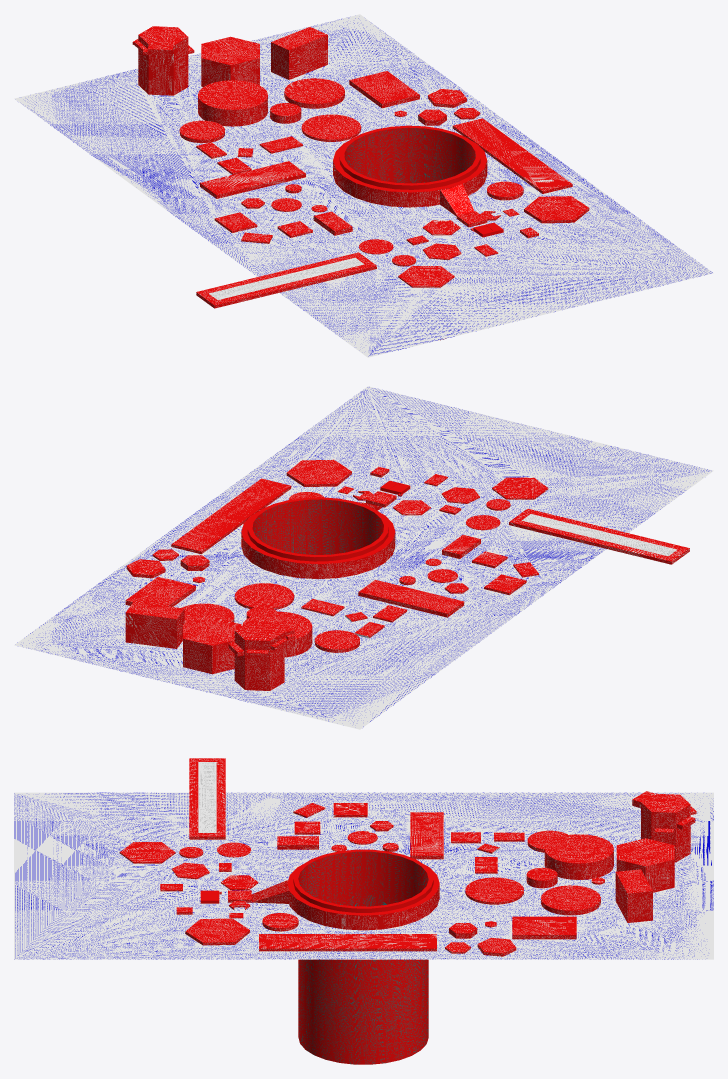
The model's file is level_2.fbx.
3 renders of one model, top to bottom at view 1: azimuth 30°, elevation 25°; view 2: azimuth 150°, elevation 25°; view 3: azimuth 270°, elevation 25°, orthographic.
Parts seen in each view (by area): view 1: SketchUp.042, SketchUp.007, SketchUp.010, SketchUp.001, SketchUp.026, SketchUp.020, SketchUp.025, SketchUp.009, SketchUp.011, SketchUp.021, SketchUp.008, SketchUp.017 (+12 smaller); view 2: SketchUp.042, SketchUp.007, SketchUp.010, SketchUp.026, SketchUp.001, SketchUp.025, SketchUp.011, SketchUp.009, SketchUp.021, SketchUp.008, SketchUp.019, SketchUp.034 (+10 smaller); view 3: SketchUp.042, SketchUp.007, SketchUp.001, SketchUp.026, SketchUp.020, SketchUp.010, SketchUp.025, SketchUp.009, SketchUp.011, SketchUp.008, SketchUp.021, SketchUp.017 (+12 smaller).
Boxes of the visible parts, x1,y1,x2,y2 form: SketchUp.042: (14,14,713,357); SketchUp.007: (344,127,475,340); SketchUp.010: (138,26,188,95); SketchUp.001: (333,160,487,227); SketchUp.026: (452,118,572,193); SketchUp.020: (198,80,267,126); SketchUp.025: (201,36,259,86); SketchUp.009: (196,252,376,308); SketchUp.011: (271,27,327,79); SketchUp.021: (200,161,305,198); SketchUp.008: (339,125,480,189); SketchUp.017: (349,71,419,108); SketchUp.042: (14,386,713,729); SketchUp.007: (252,499,383,554); SketchUp.010: (234,621,295,690); SketchUp.026: (171,478,291,554); SketchUp.001: (241,491,396,579); SketchUp.025: (183,617,241,674); SketchUp.011: (125,602,184,648); SketchUp.009: (509,508,689,564); SketchUp.021: (358,579,464,617); SketchUp.008: (247,497,388,561); SketchUp.019: (522,514,676,556); SketchUp.034: (286,459,351,486); SketchUp.042: (14,792,713,959); SketchUp.007: (298,851,428,1064); SketchUp.001: (228,880,439,930); SketchUp.026: (259,934,436,951); SketchUp.020: (544,834,613,879); SketchUp.010: (632,791,690,862); SketchUp.025: (616,838,674,892); SketchUp.009: (189,758,225,839); SketchUp.011: (615,869,652,922); SketchUp.008: (293,849,433,912); SketchUp.021: (410,812,443,859); SketchUp.017: (512,916,576,939).
Size of the model in its own units: 1367513 by 606740 by 2040111.
